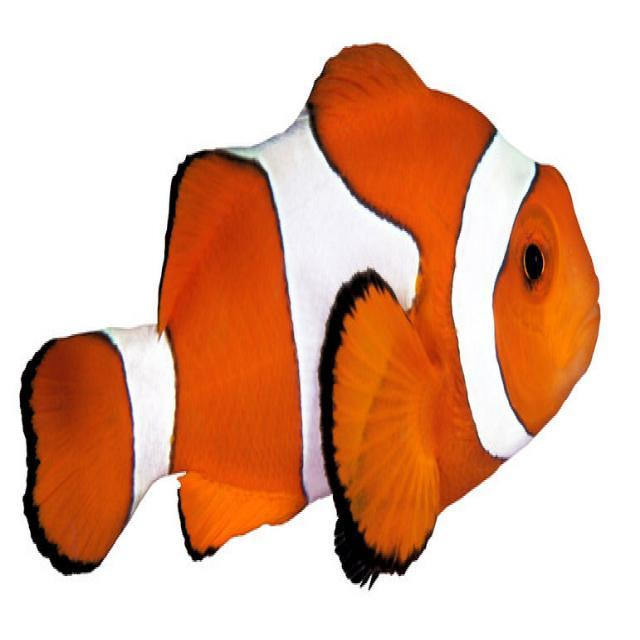ClownFish: (20, 45, 600, 588)
